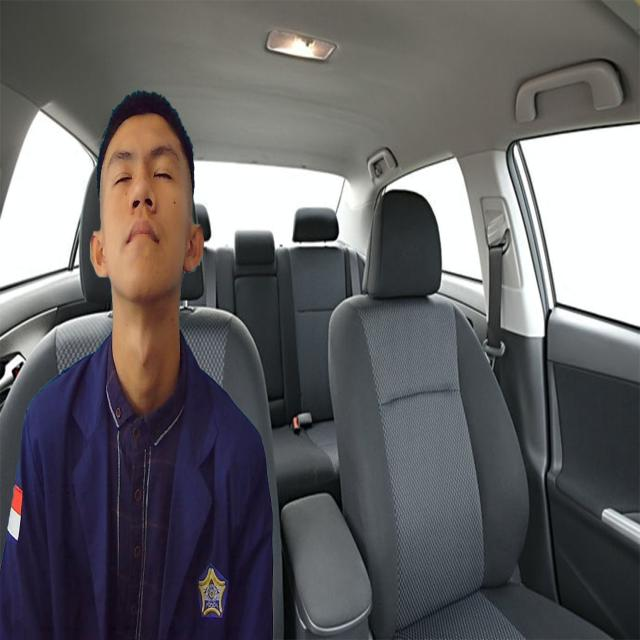no-seatbelt: (100, 98, 194, 310)
